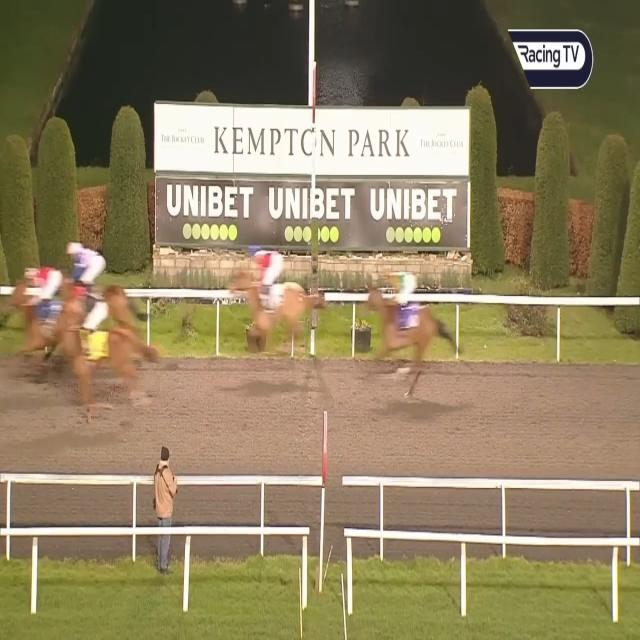horses-racing: (32, 278, 129, 401), (232, 241, 326, 363), (366, 262, 444, 396), (64, 237, 128, 326), (0, 260, 59, 317)
